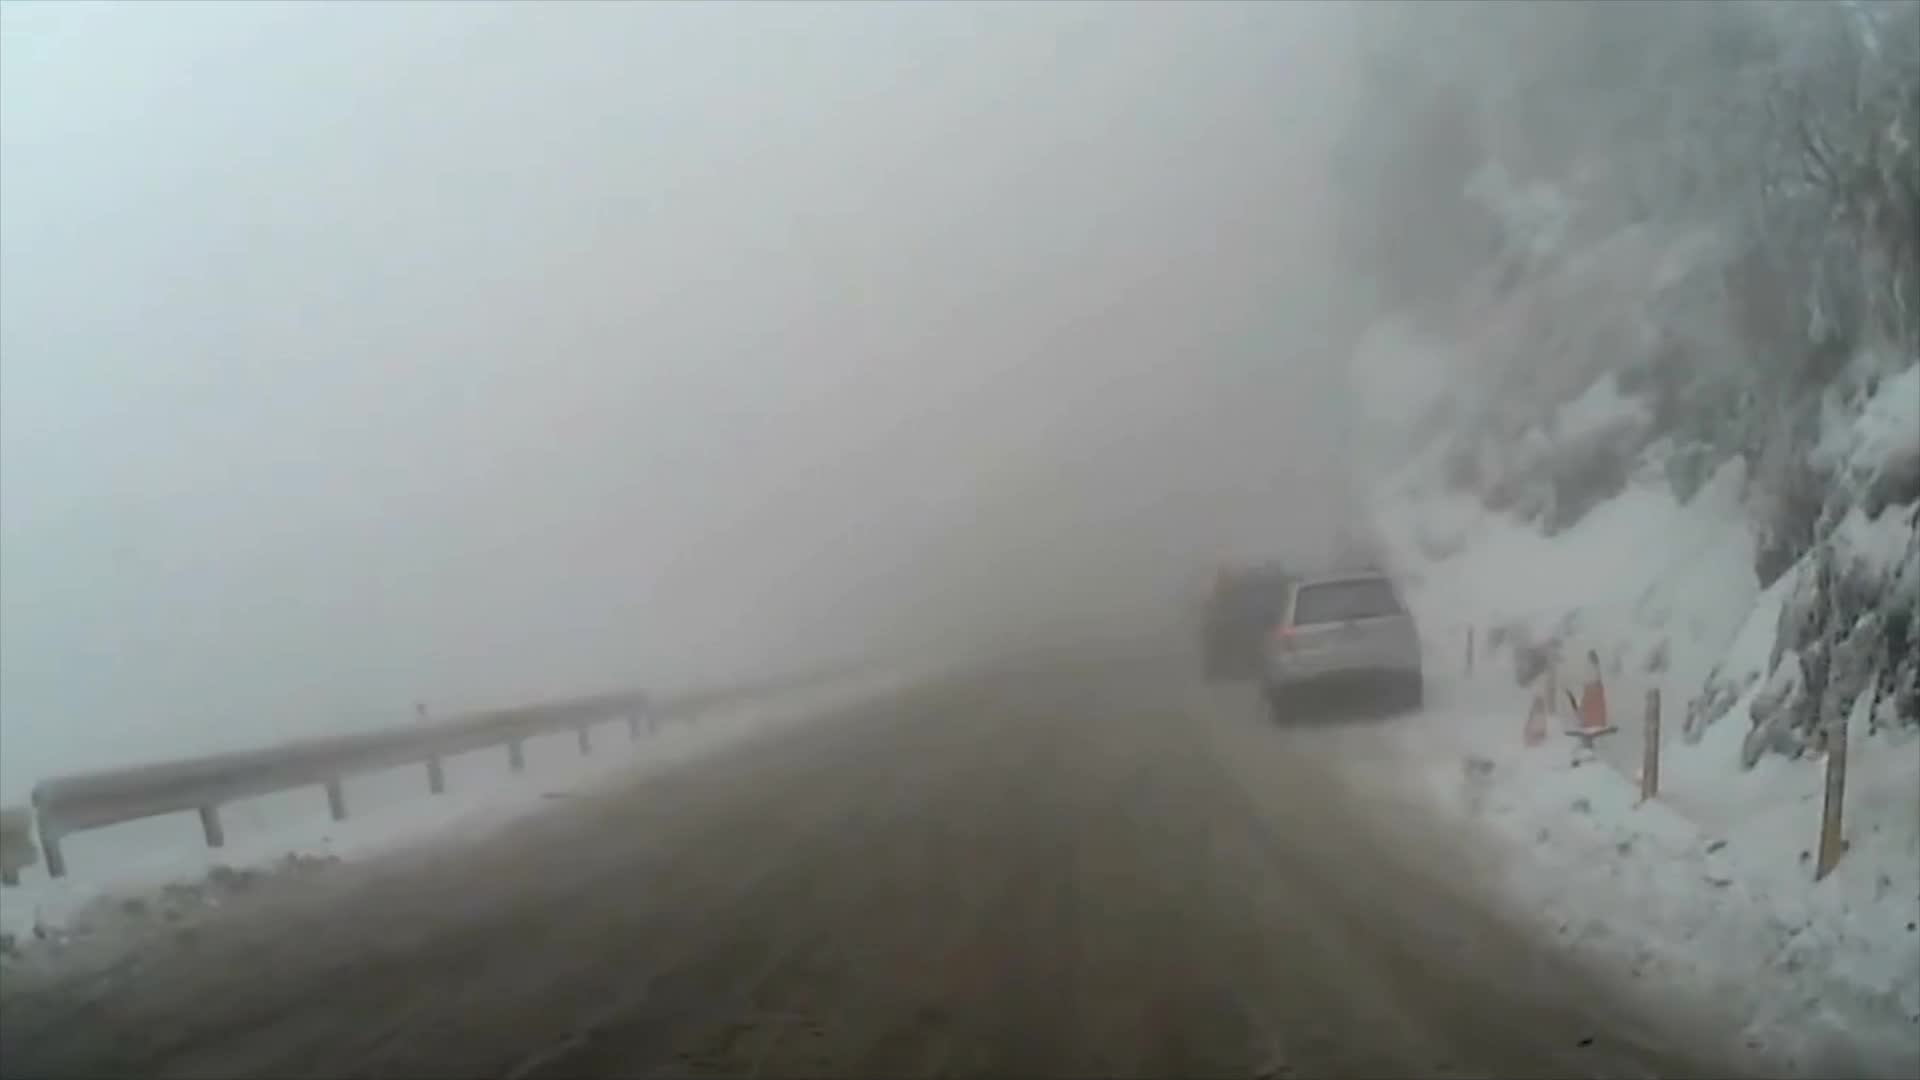vehicle: (1261, 572, 1423, 725), (1196, 560, 1316, 694)
